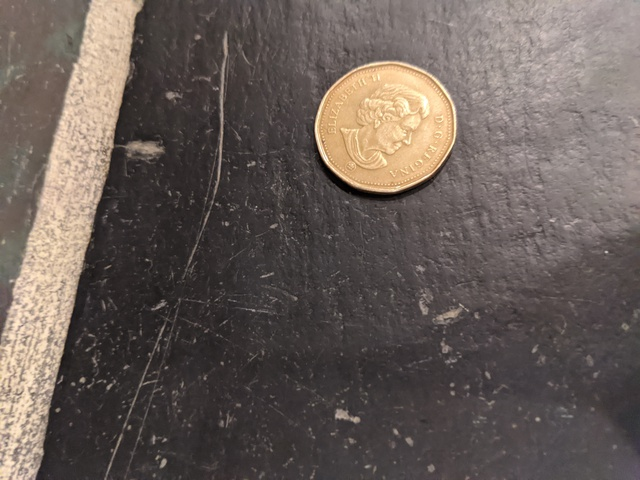loonie: (303, 59, 461, 206)
